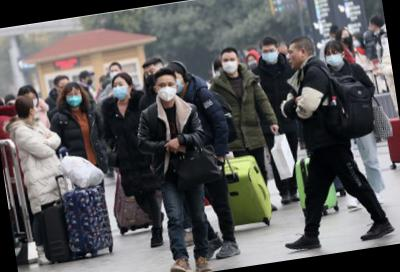with_mask: (155, 79, 179, 102), (142, 66, 163, 89), (110, 80, 131, 101), (324, 48, 344, 68), (64, 88, 84, 107), (261, 46, 280, 65), (221, 55, 240, 74), (109, 66, 123, 81), (340, 30, 353, 46), (28, 94, 40, 107), (32, 106, 41, 122), (84, 74, 93, 85)
without_mask: (286, 45, 303, 70)
